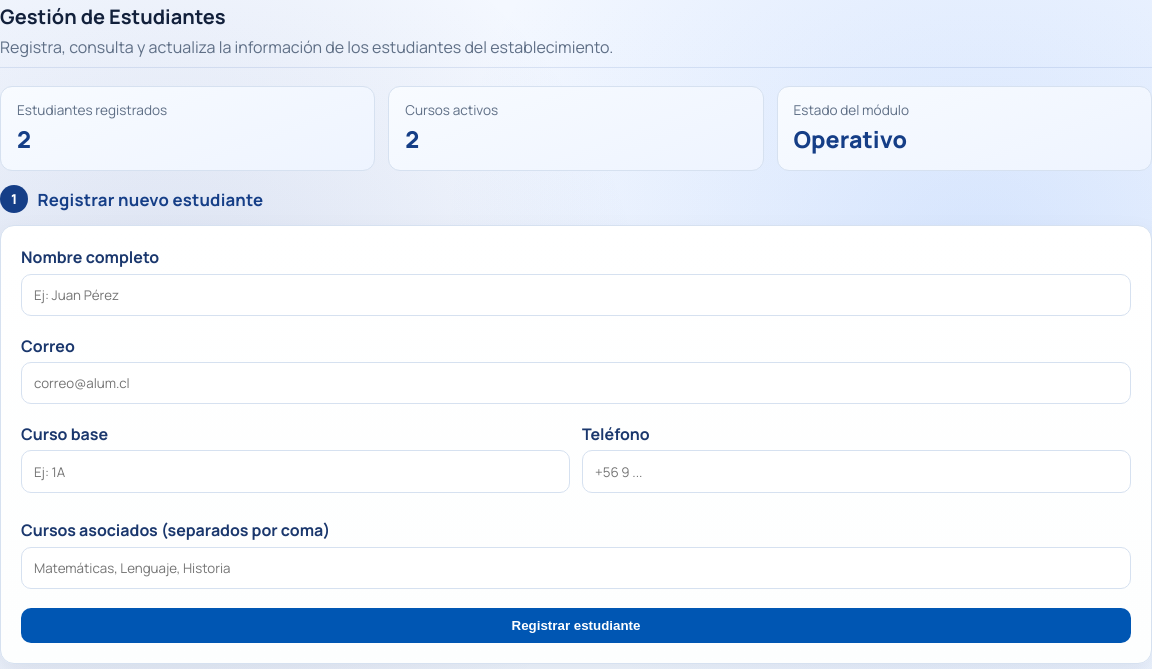
Test case: Estudiantes — registro de nuevo estudiante › muestra mensaje de éxito tras registrar correctamente
This screenshot has width=1152, height=669.
Type "Test" into the field with id "create-est-nombre" at (576, 295), box [21,274,1131,316]
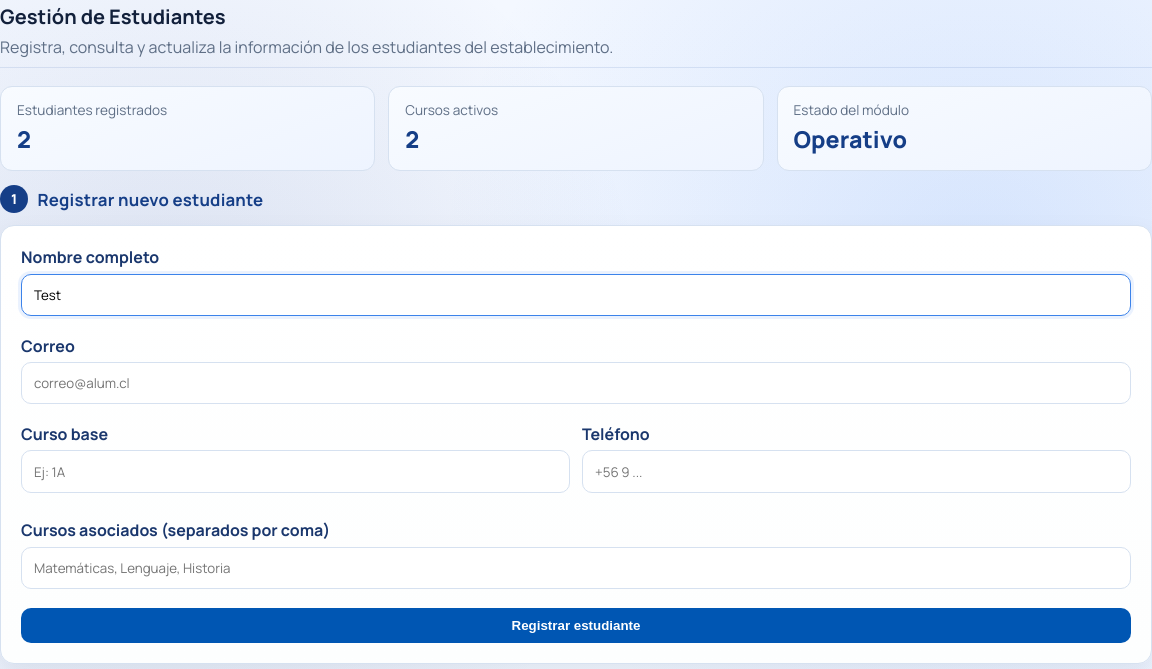
Type "test@alum.cl" into the field with id "create-est-correo" at (576, 383), box [21,362,1131,404]
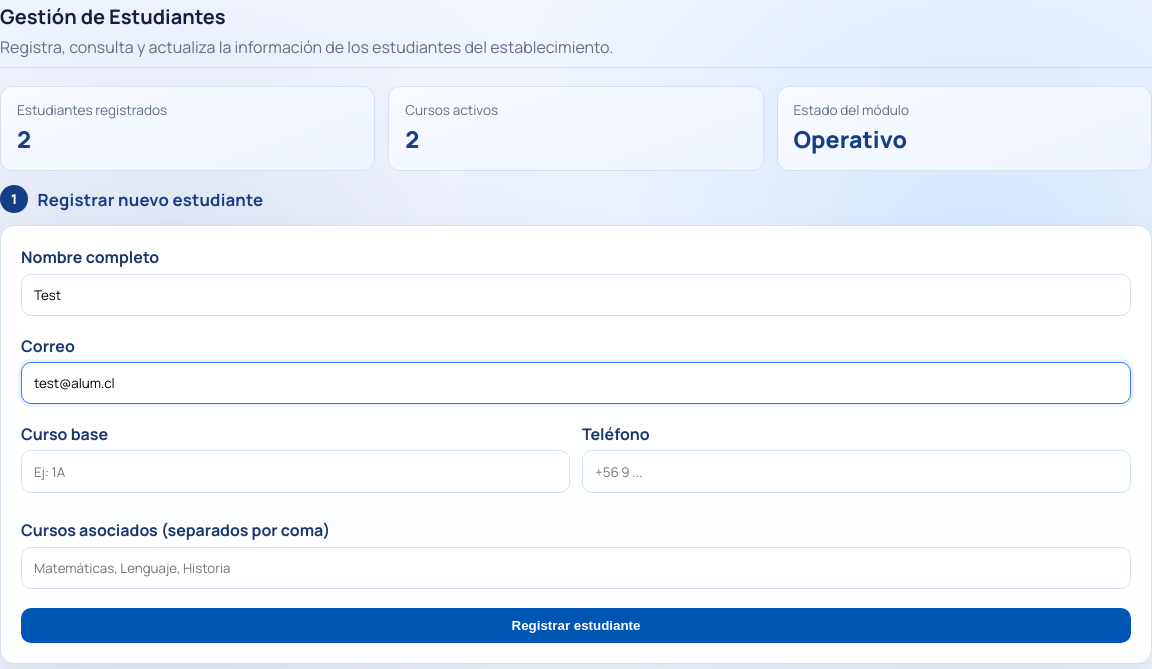
Type "1A" into the field with id "create-est-curso" at (296, 472), box [21,450,570,493]
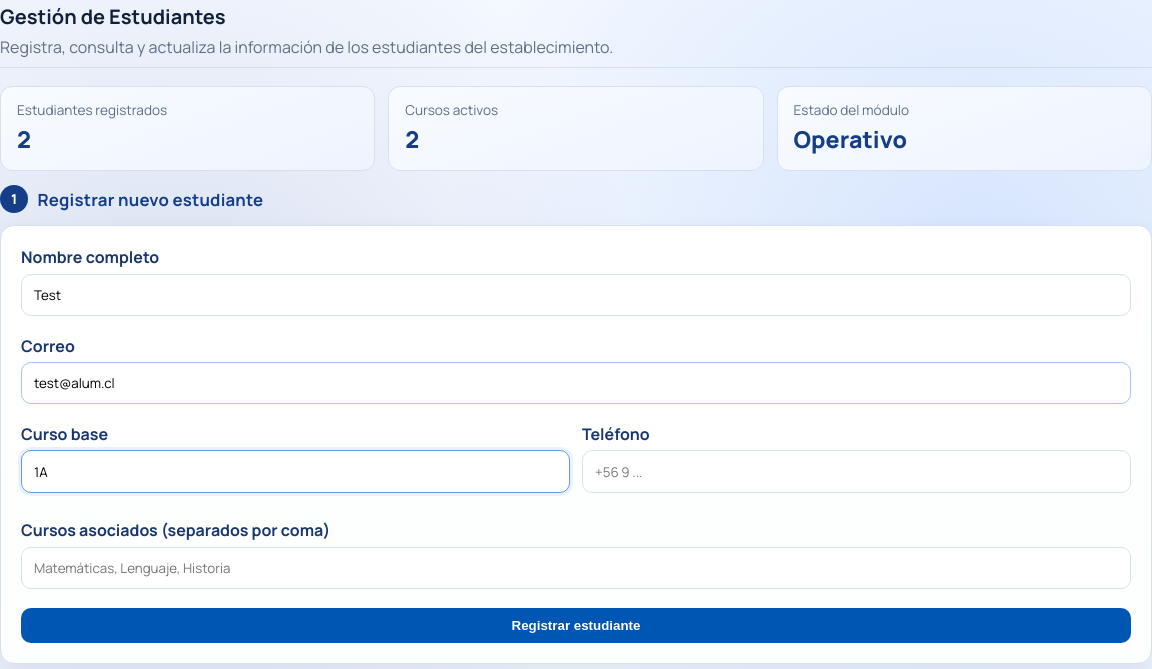
Click the button "Registrar estudiante" at (576, 626), box [21,608,1131,643]
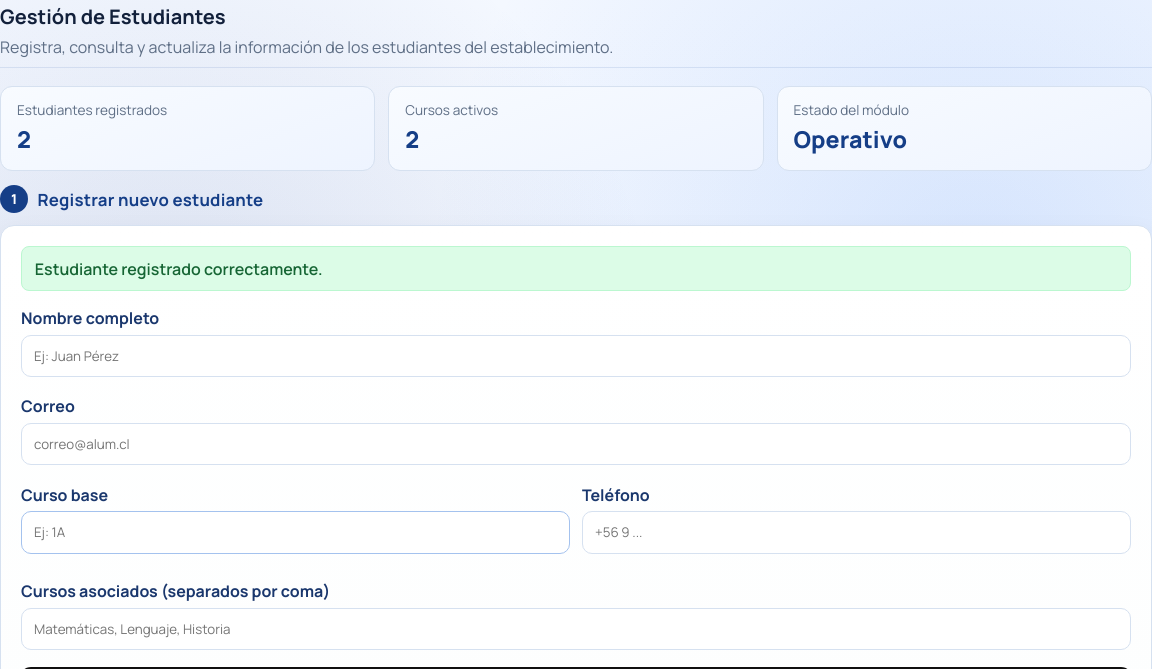
Now the text "Estudiante registrado correctamente." is shown, box [21,246,1131,291]
